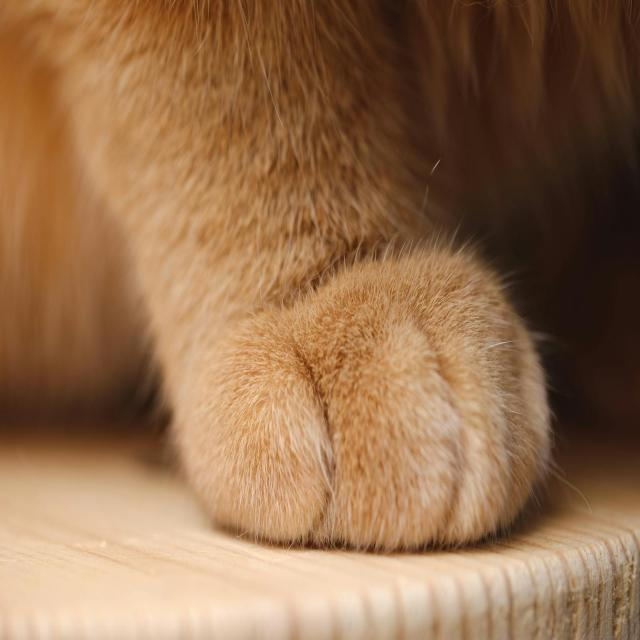Cat: (1, 0, 638, 555)
